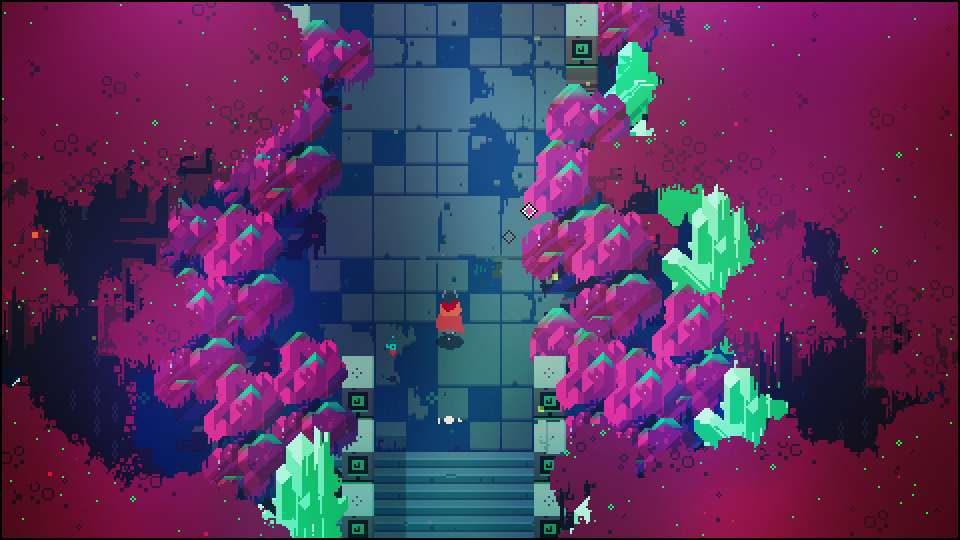player: (436, 290, 463, 341)
